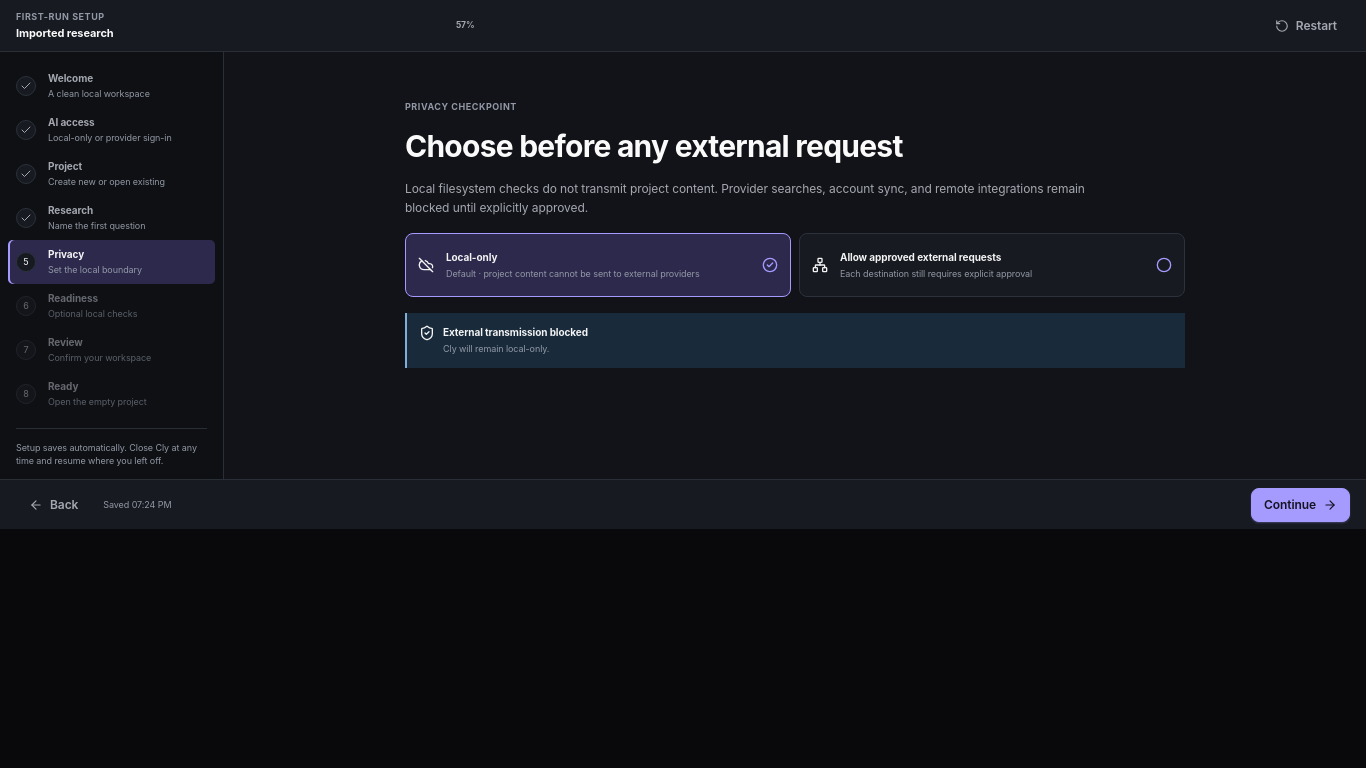
Test: first-run onboarding › blocks external transmission by default and records local-only completion
Expected: the text "External transmission blocked" is shown, [443,326,588,340]
What coordinates should you click on to do the following:
click the button "Continue"
I would click on:
 (1300, 505)
Its box is [1251,488,1350,522].
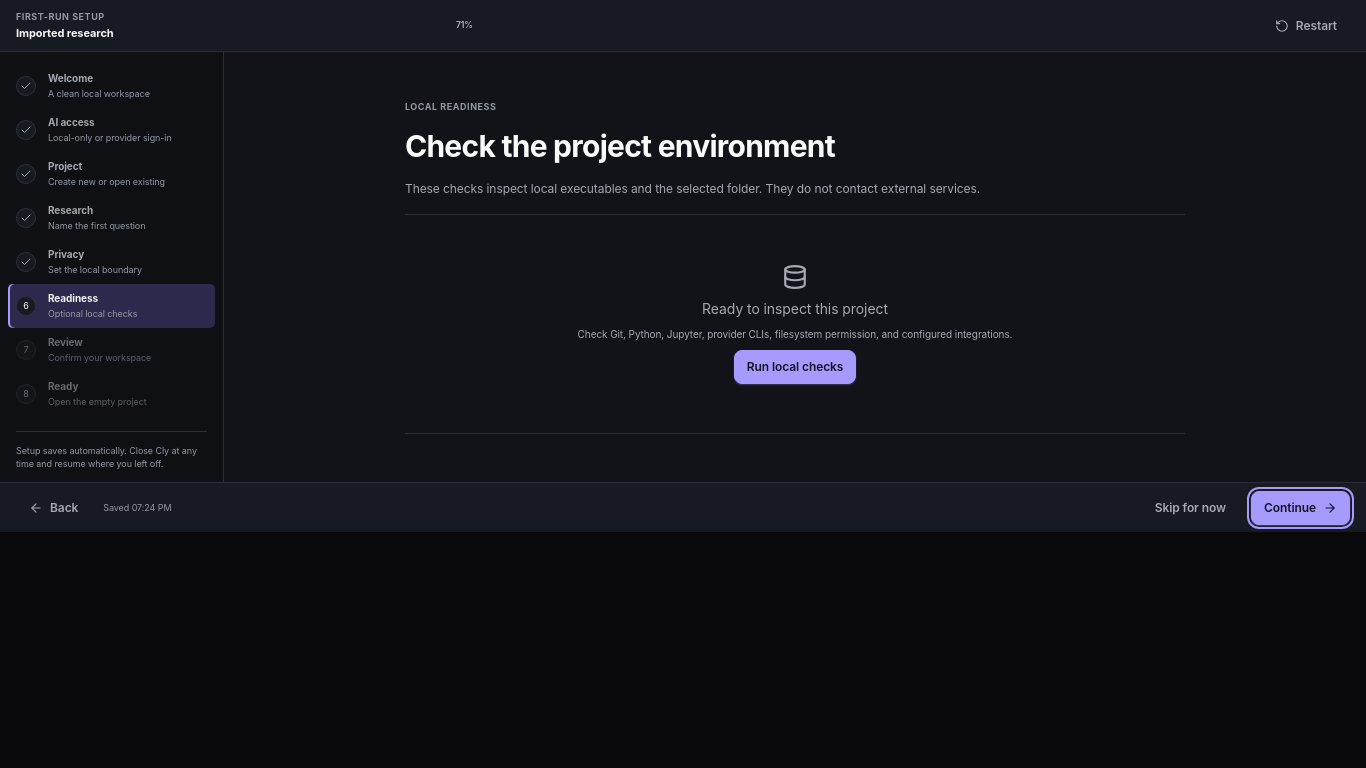
Now the heading "Check the project environment" is shown, box [405,128,835,164]
